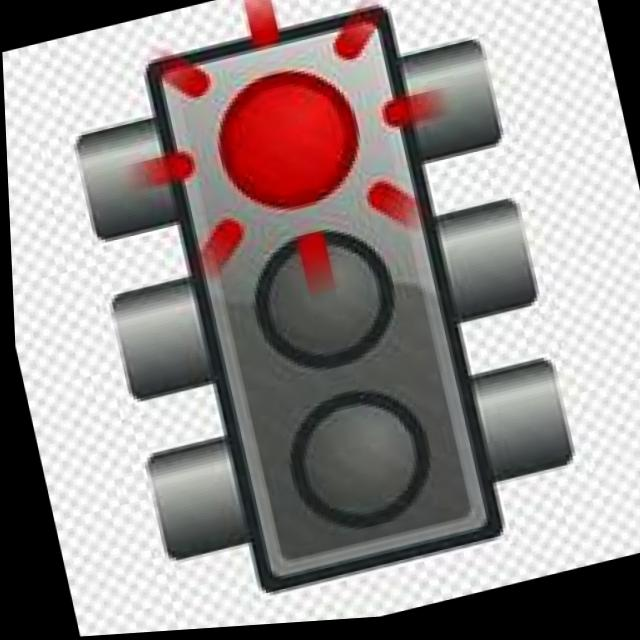red_light: (183, 25, 433, 250)
